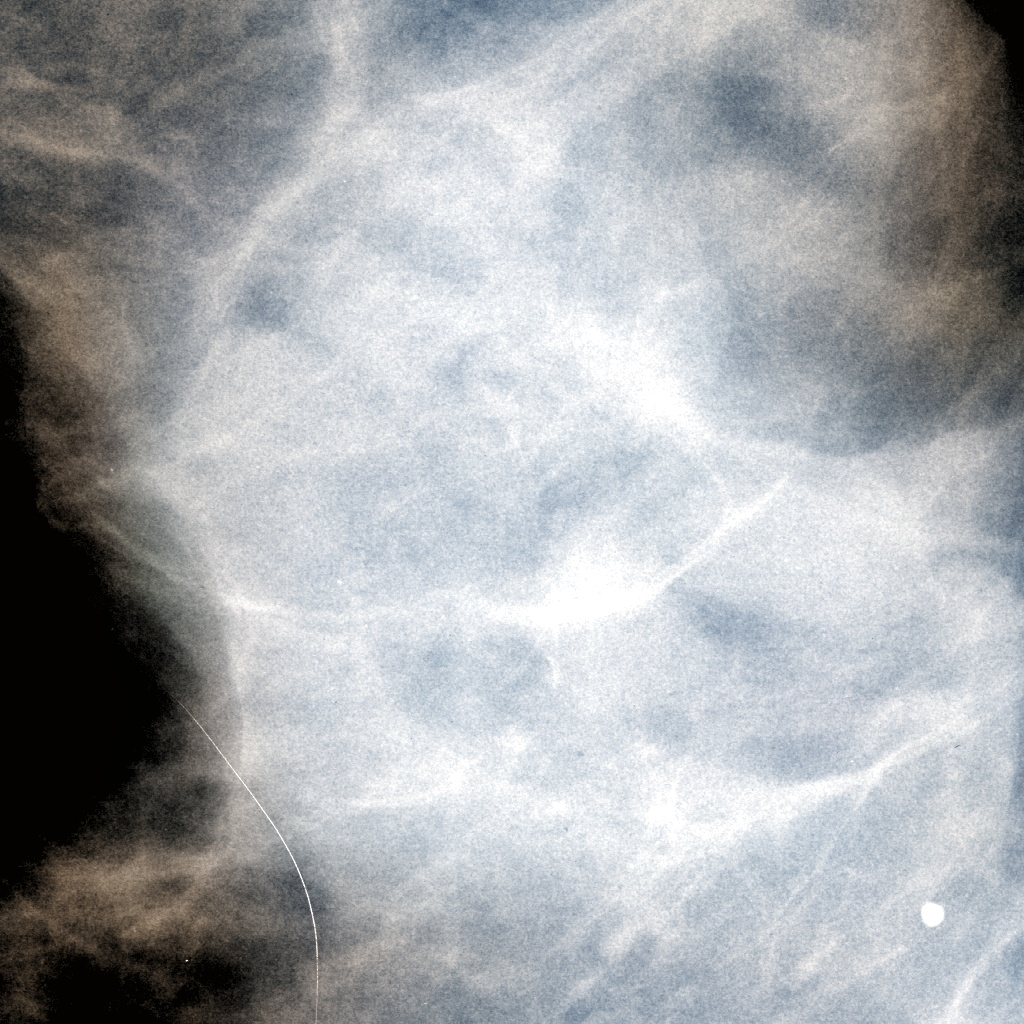tumor: (254, 255, 770, 769)
